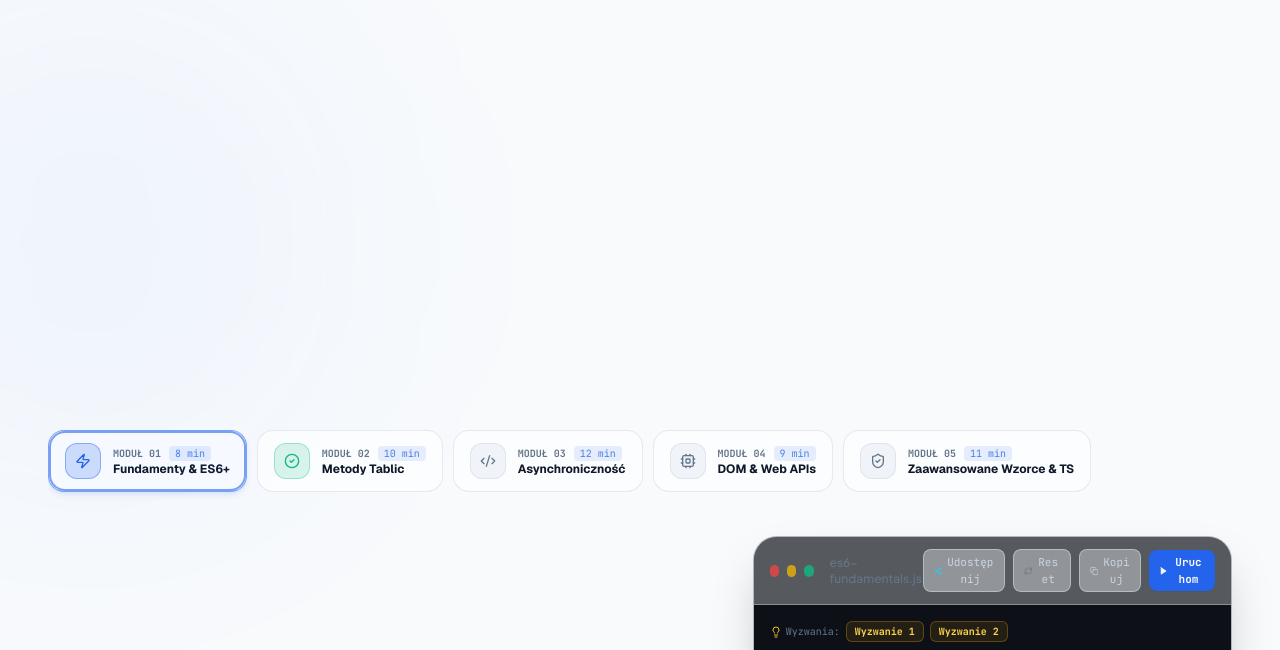
Scenario: JsCourseSection Comprehensive Suite › handles code copy and virtual console code execution
Click the button "Kopiuj" at (1110, 570), box x1=1079 y1=549 x2=1142 y2=592
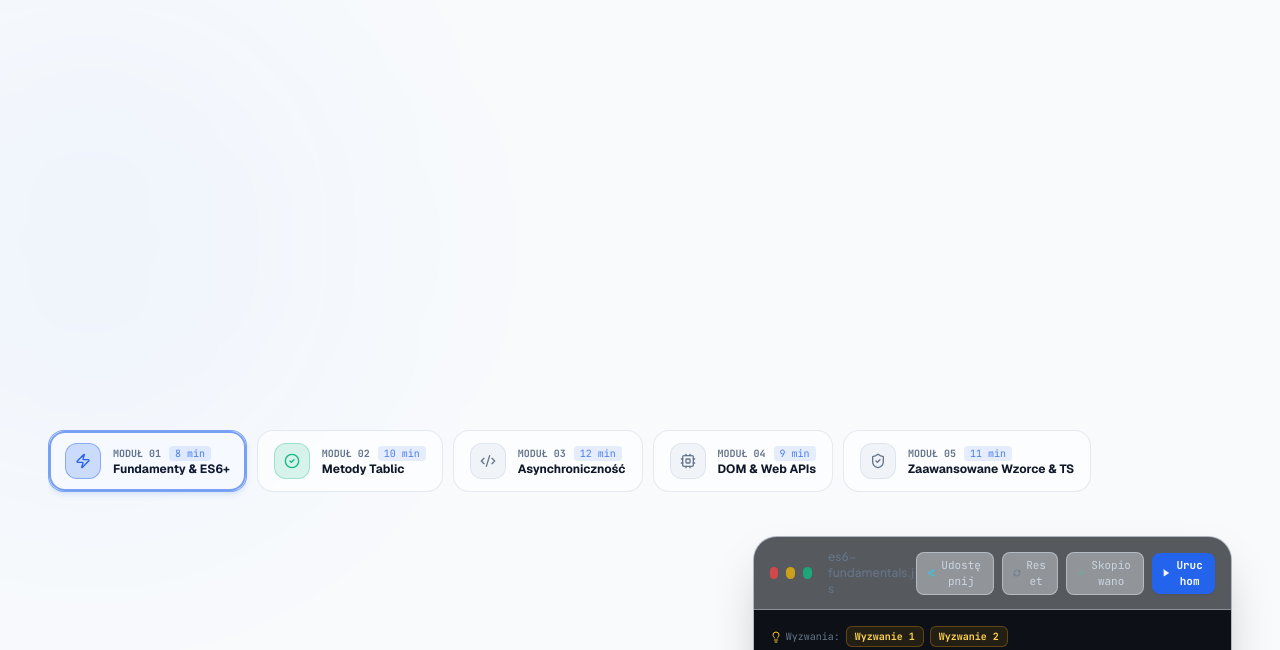
Click the button "Uruchom" at (1184, 573), box x1=1152 y1=552 x2=1215 y2=594
(page scrolled)
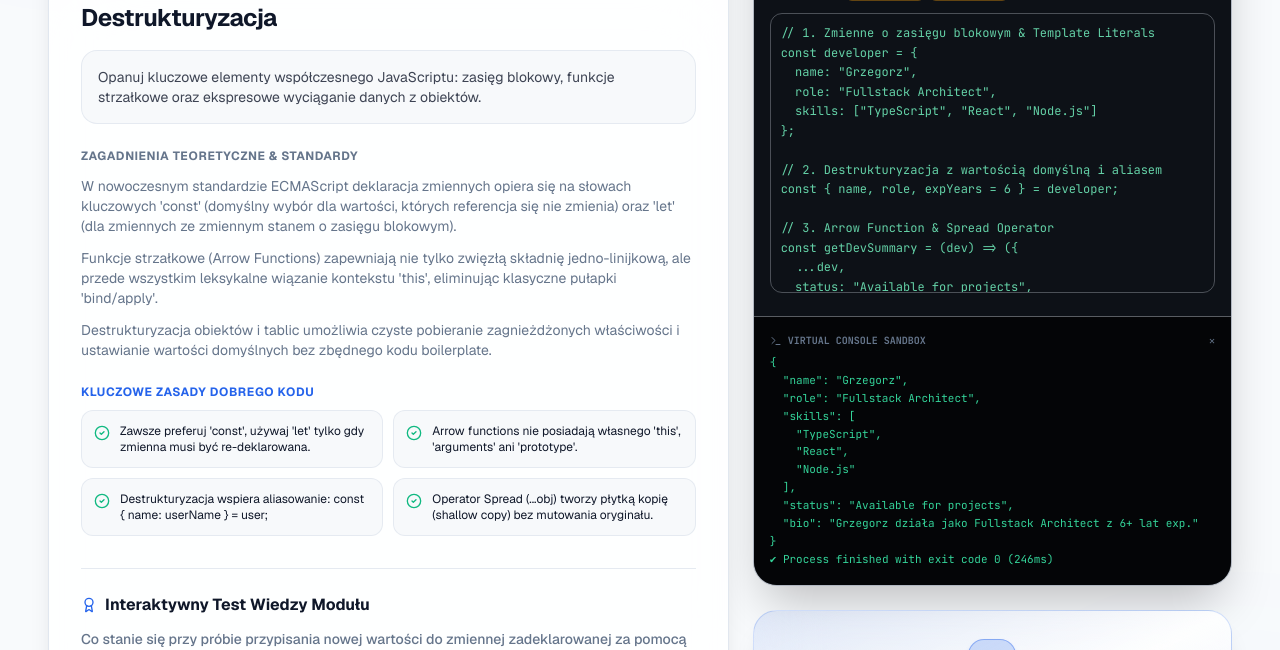
Expected: the text "Virtual Console Sandbox" is shown, x1=788 y1=333 x2=926 y2=348
